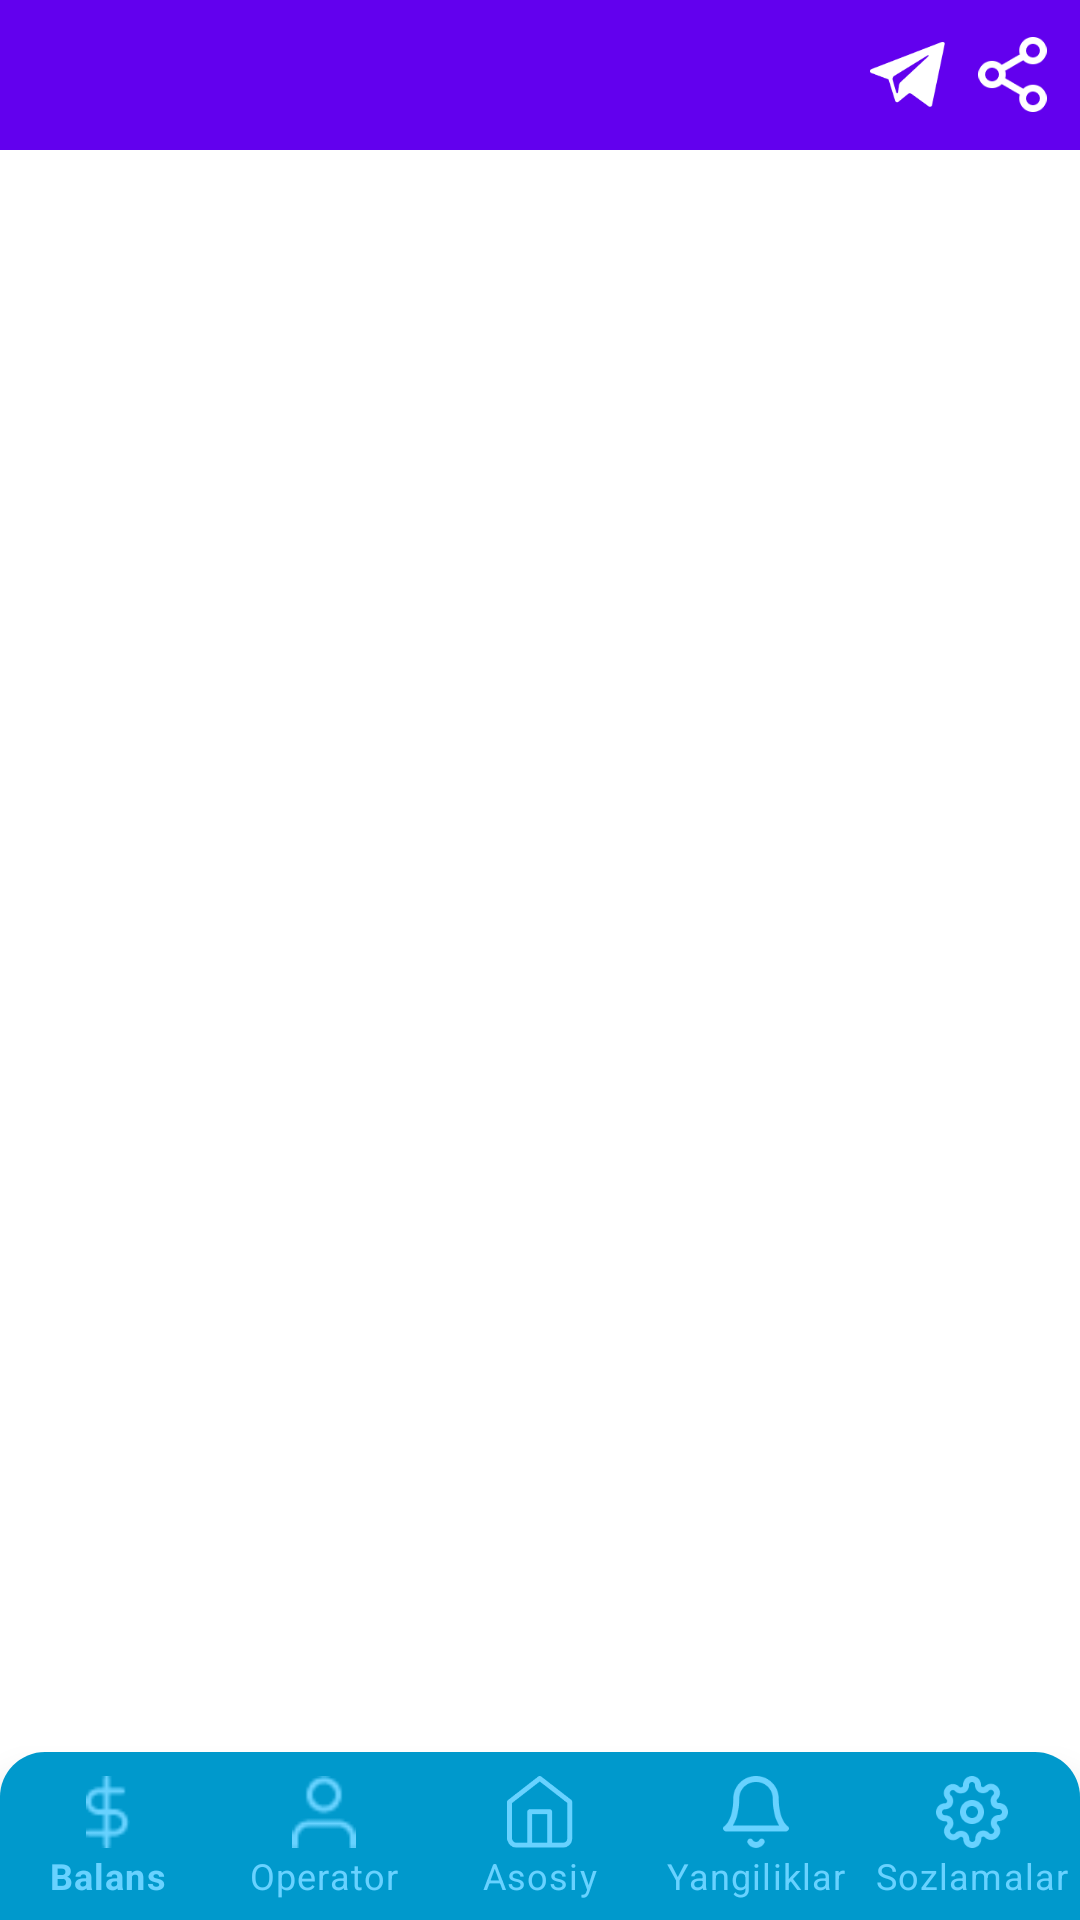

Screen size 1080*1920. Icon name, then its box in pixels as (x1, y1, x2, y2):
share: (978, 37, 1047, 112)
